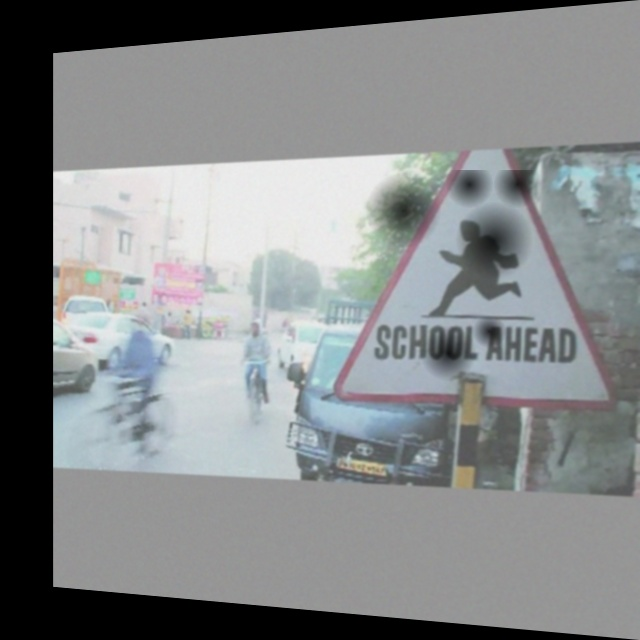School_Ahead: (360, 170, 597, 385)
